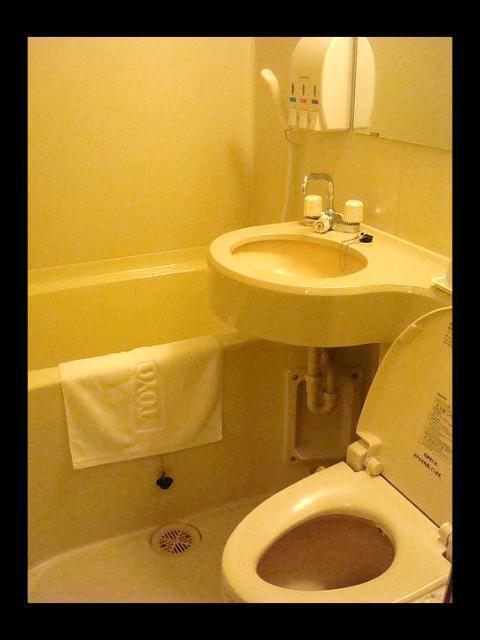Lavamanos: (210, 162, 444, 358)
Sanitario: (222, 297, 451, 601)
